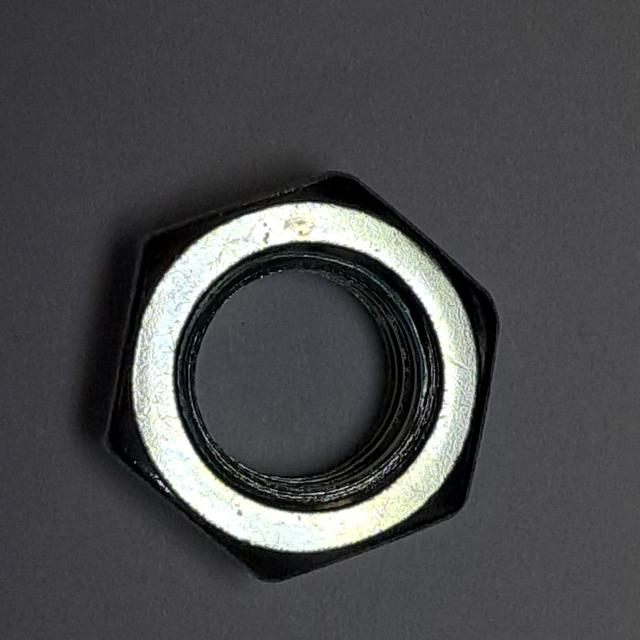Excellent: (85, 160, 506, 595)
